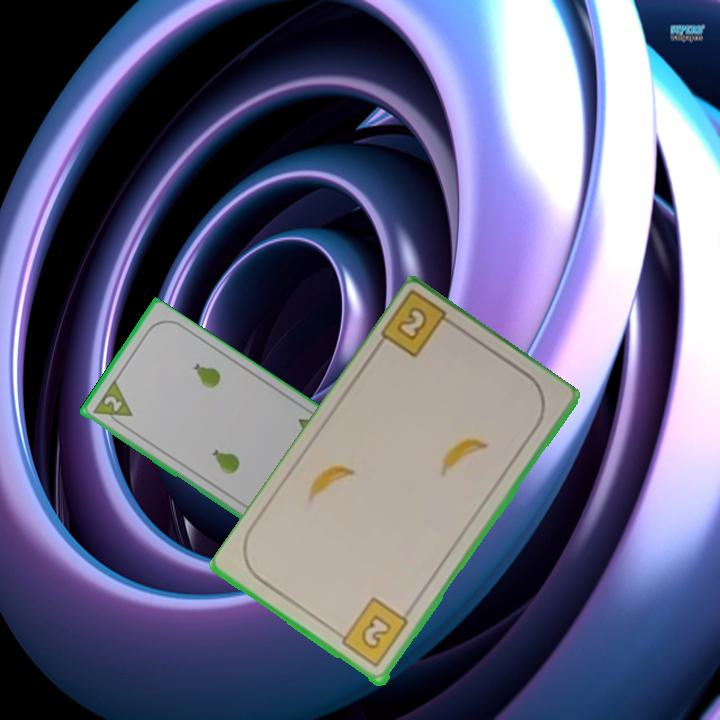2b: (377, 290, 462, 361), (333, 595, 412, 671)
2p: (88, 377, 135, 430)
